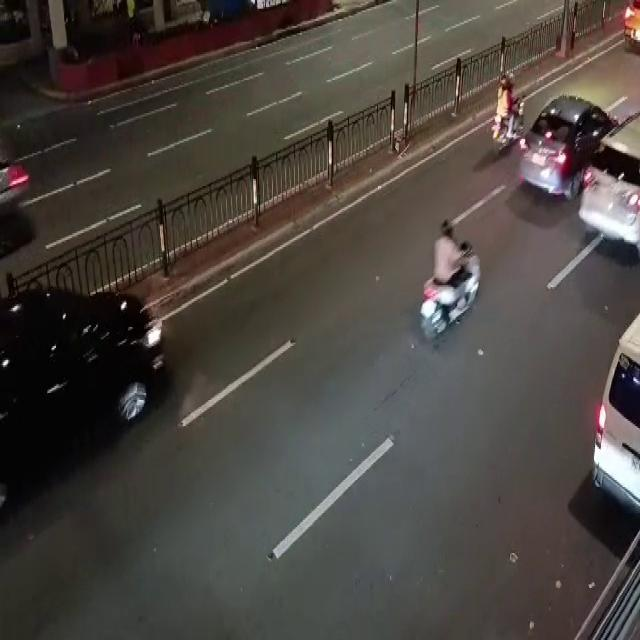car: (2, 284, 176, 458), (533, 94, 605, 200)
motorcycle: (423, 228, 493, 340), (494, 81, 526, 156)
